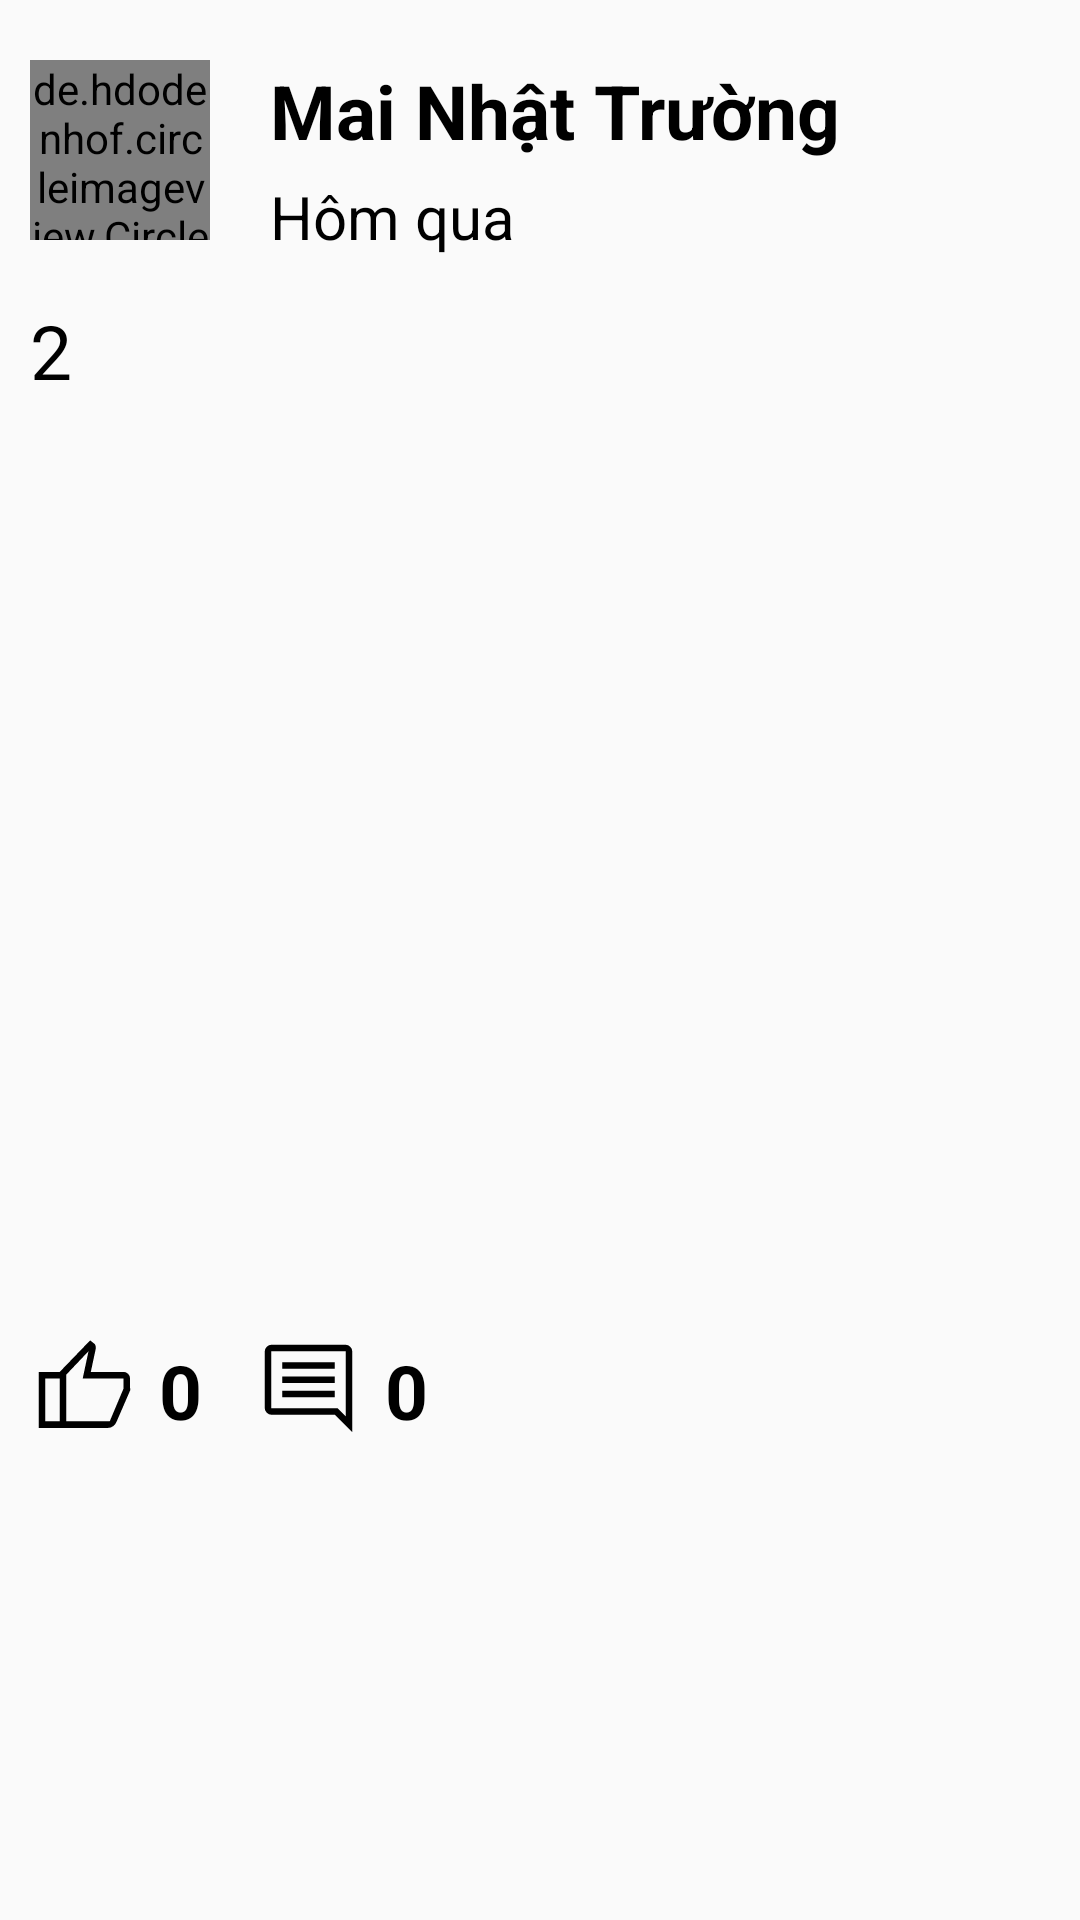

Named icons in this screenshot (1080×1920) and their centers, point (x, y):
comment: point (308, 1388)
like: point (84, 1384)
